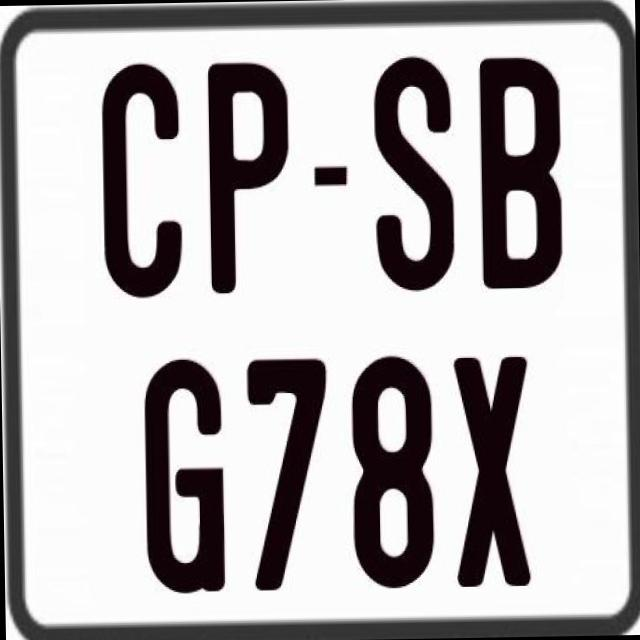7: (242, 358, 324, 593)
8: (349, 353, 436, 591)
B: (477, 55, 565, 287)
C: (98, 62, 181, 300)
G: (140, 354, 230, 589)
P: (204, 61, 296, 299)
S: (372, 54, 456, 290)
X: (451, 352, 535, 586)
